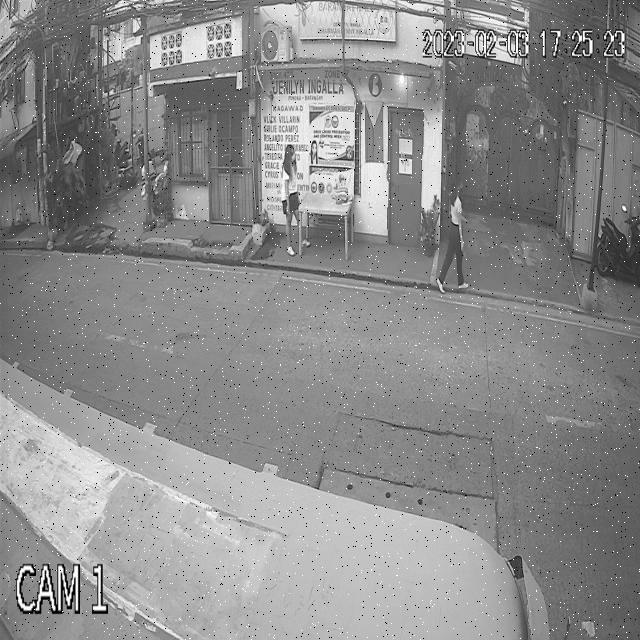garbage_dumping: (461, 248, 468, 266)
